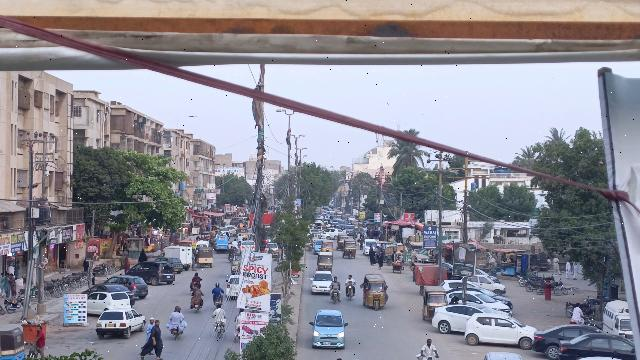Bike: (212, 320, 228, 338), (169, 323, 182, 343), (345, 283, 356, 302), (211, 297, 225, 309), (192, 300, 203, 315), (330, 288, 340, 304)
Car: (462, 311, 536, 349), (531, 324, 598, 358), (556, 333, 637, 360), (430, 304, 492, 335), (308, 308, 349, 350), (93, 308, 145, 341), (126, 259, 176, 286), (87, 289, 131, 316), (111, 274, 150, 299), (308, 270, 335, 296)
Person: (141, 317, 167, 360), (170, 305, 184, 324), (211, 281, 225, 297), (191, 284, 203, 302), (329, 275, 342, 291), (146, 316, 155, 339), (344, 274, 357, 289)
Rickshaw: (359, 273, 390, 314), (419, 283, 447, 324), (195, 246, 214, 271), (316, 251, 335, 273), (342, 238, 357, 261)
Suzuki: (601, 297, 633, 340)
Truck: (163, 244, 194, 268)
